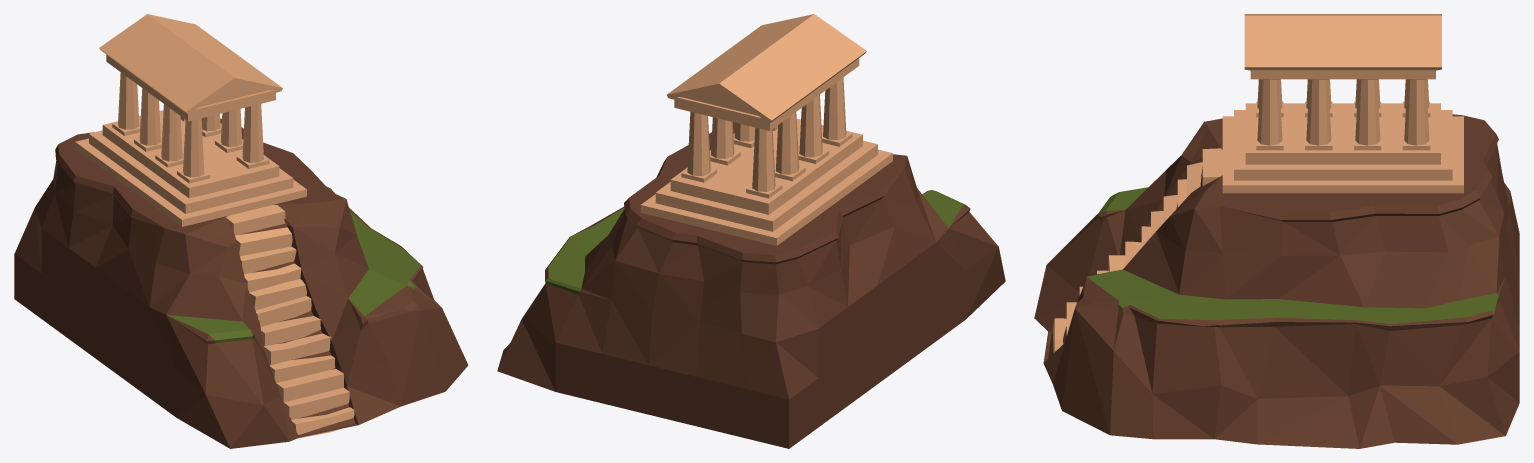
The model's file is Temple.fbx.
3 views of the same model, side by side, from view 1: azimuth 30°, elevation 25°; view 2: azimuth 150°, elevation 25°; view 3: azimuth 270°, elevation 25° (orthographic). The views are drawn at different scales.
Parts seen in each view (by area): view 1: Hill; view 2: Hill; view 3: Hill.
Part boxes in pixels (x1,y1,x2,y2): Hill: [14, 14, 468, 448]; Hill: [497, 14, 1005, 448]; Hill: [1034, 14, 1519, 448].
Bounding box in the file's own units: 116 × 109 × 144.
